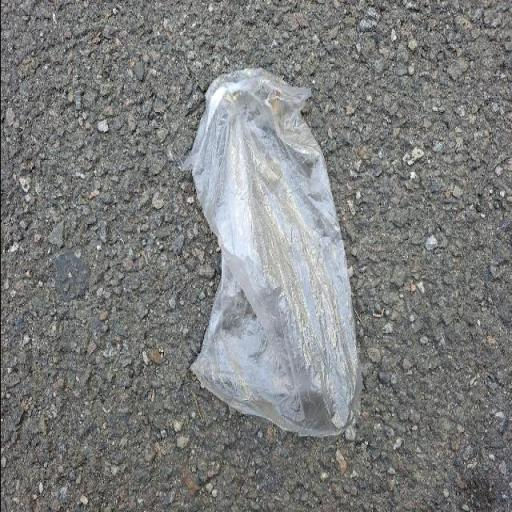plastic-bag: (176, 60, 366, 439)
